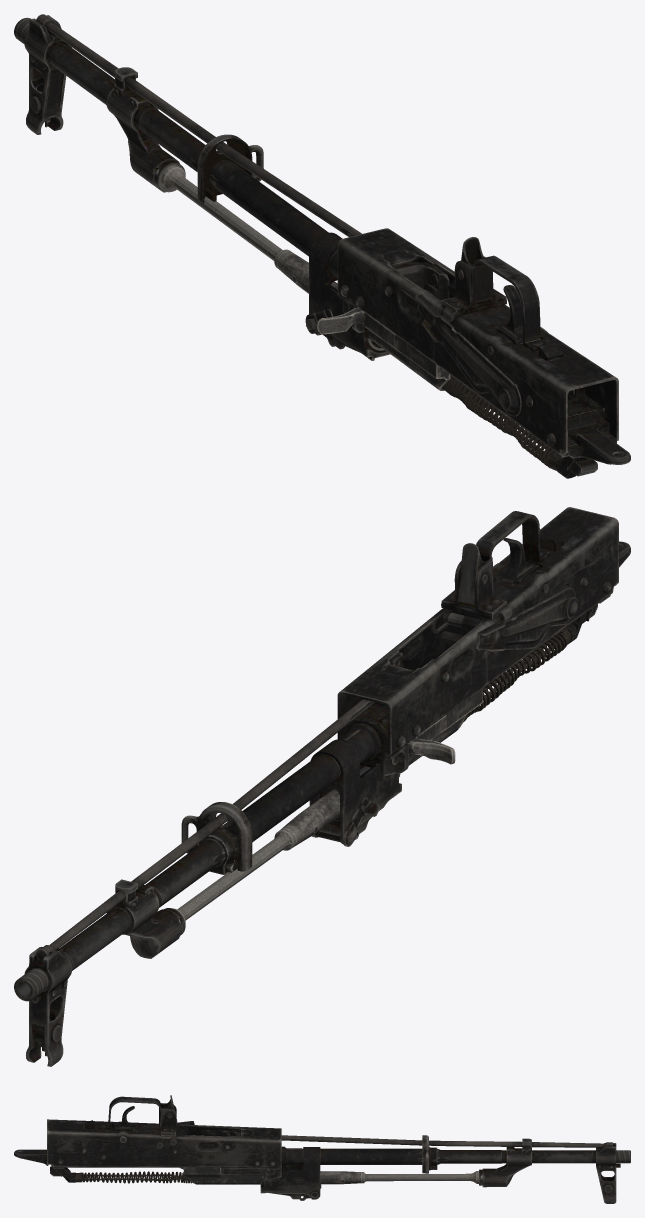
3 renders of one model, top to bottom at view 1: azimuth 30°, elevation 25°; view 2: azimuth 150°, elevation 25°; view 3: azimuth 270°, elevation 25°, orthographic. The views are drawn at different scales.
Parts seen in each view (by area): view 1: TW_59d6088586f774275f37482f_PZ_Import; view 2: TW_59d6088586f774275f37482f_PZ_Import; view 3: TW_59d6088586f774275f37482f_PZ_Import.
Boxes of the visible parts, bbox=[...] form: TW_59d6088586f774275f37482f_PZ_Import: bbox=[14, 14, 630, 478]; TW_59d6088586f774275f37482f_PZ_Import: bbox=[14, 507, 630, 1066]; TW_59d6088586f774275f37482f_PZ_Import: bbox=[14, 1095, 630, 1203].
Bounding box in the file's own units: 0.0409 × 0.3894 × 0.0736.
1 material, 1 textured.
